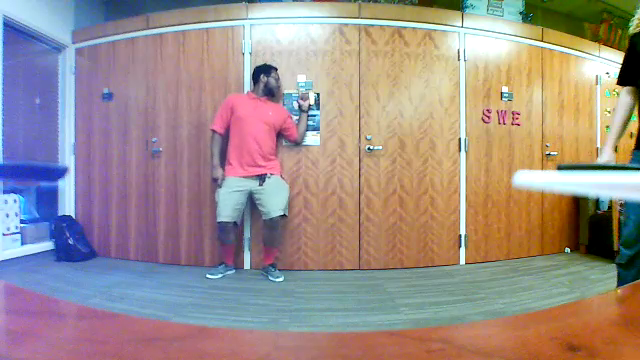up: (295, 83, 313, 114)
